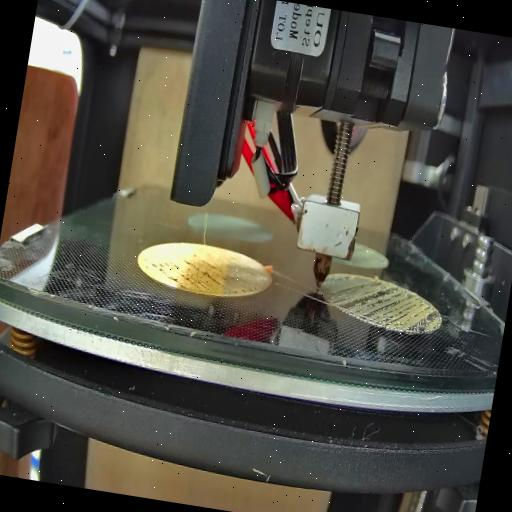under_extrusion: (328, 279, 442, 330), (143, 252, 235, 302), (234, 282, 262, 302)
